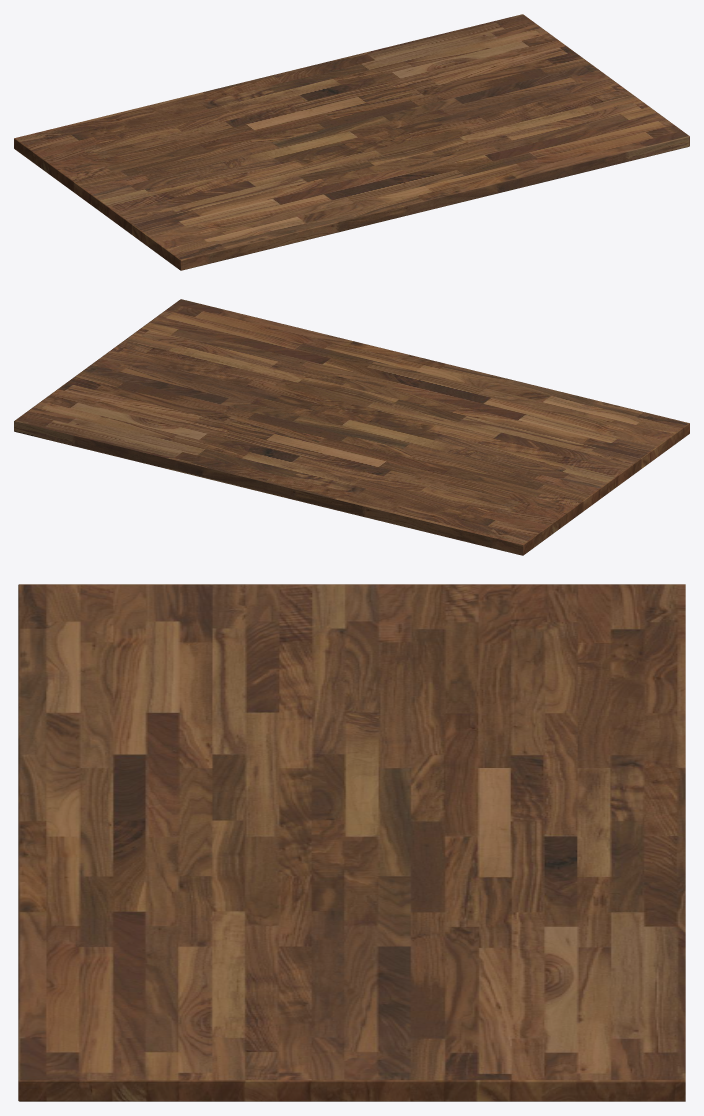
The model's file is karlby_countertop_for_kitchen_island_wal.glb.
The picture shows the model from 3 angles, top to bottom: view 1: azimuth 30°, elevation 25°; view 2: azimuth 150°, elevation 25°; view 3: azimuth 270°, elevation 25°; orthographic projection. The views are drawn at different scales.
Visible parts, largest first — view 1: model; view 2: model; view 3: model.
Boxes of the visible parts, box(x1,y1,x2,y2) form: model: box(14, 14, 689, 270); model: box(14, 299, 689, 555); model: box(18, 584, 685, 1101).
Bounding box in the file's own units: 1.88 × 0.0376 × 1.07.
Materials: 1 (1 with a texture image).
